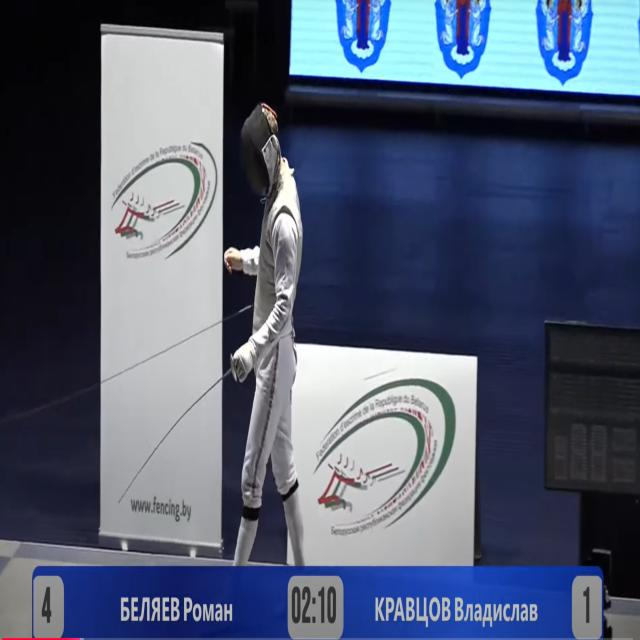fencer: (220, 100, 312, 565)
overlayLeft: (72, 569, 290, 640)
overlayRight: (337, 573, 553, 640)
scoreLeft: (33, 570, 69, 636)
scoreRight: (564, 570, 603, 640)
